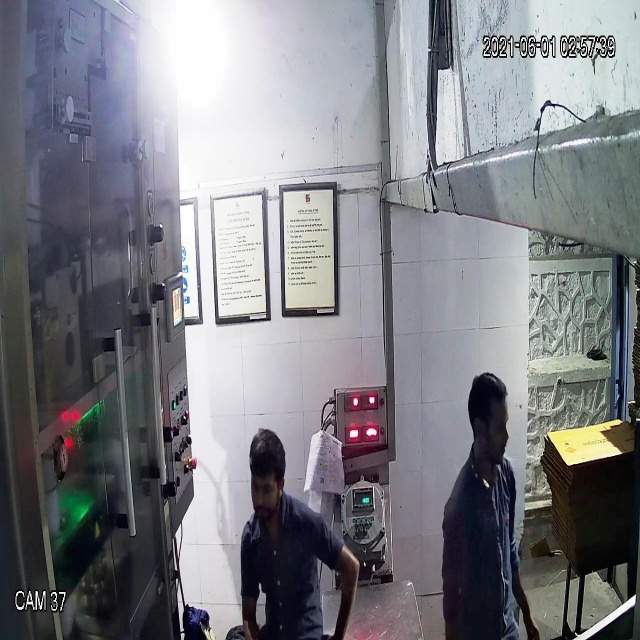Sin_gafas: (248, 471, 286, 501)
